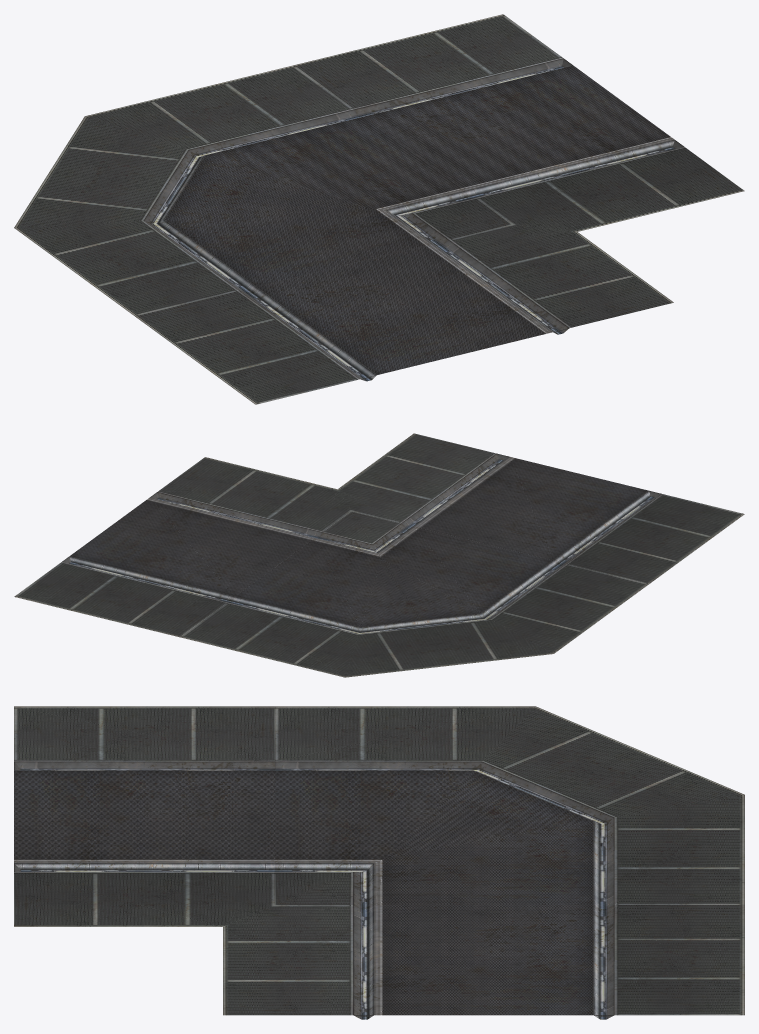
File: Floor_B_5mts_07.fbx
3 renders of one model, top to bottom at view 1: azimuth 30°, elevation 25°; view 2: azimuth 150°, elevation 25°; view 3: azimuth 270°, elevation 25°, orthographic. The views are drawn at different scales.
Visible parts, largest first — view 1: Floor_B_5mts_07; view 2: Floor_B_5mts_07; view 3: Floor_B_5mts_07.
Boxes of the visible parts, left/top/right/bottom form: Floor_B_5mts_07: left=14, top=14, right=744, bottom=404; Floor_B_5mts_07: left=14, top=433, right=744, bottom=677; Floor_B_5mts_07: left=14, top=706, right=744, bottom=1019.
Size of the model in its own units: 700 by 4.45 by 700.
Materials: 1 (1 with a texture image).
